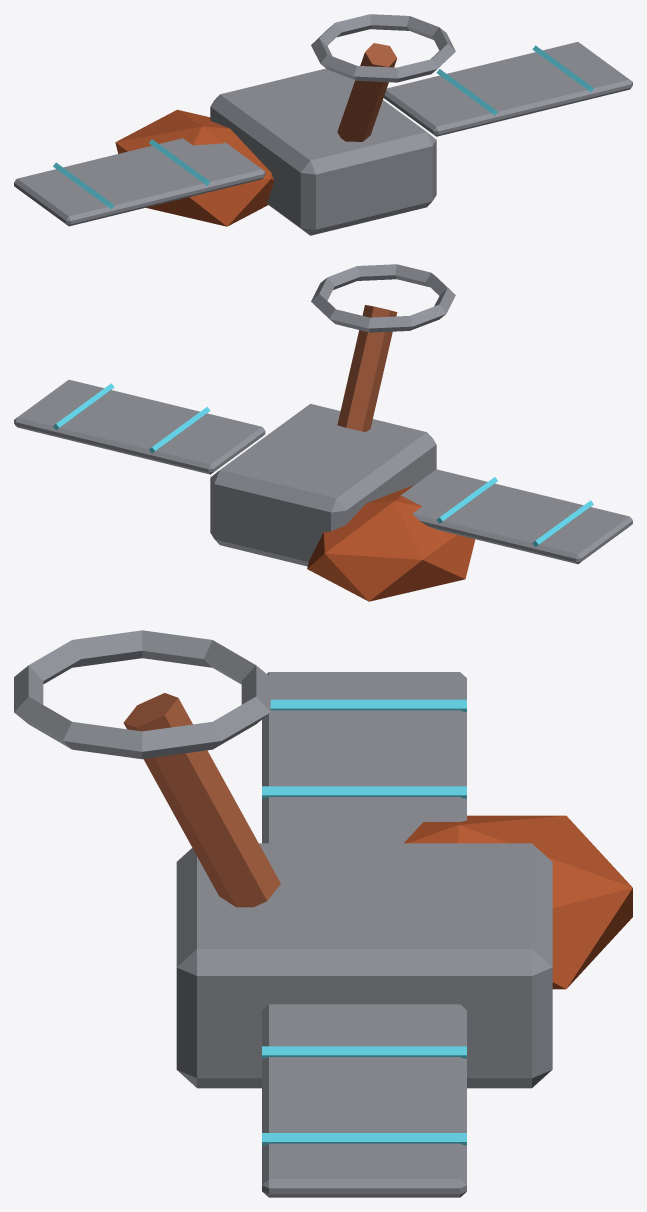
The model's file is res_whales.glb.
The picture shows the model from 3 angles, top to bottom: view 1: azimuth 30°, elevation 25°; view 2: azimuth 150°, elevation 25°; view 3: azimuth 270°, elevation 25°; orthographic projection. The views are drawn at different scales.
Parts seen in each view (by area): view 1: res_whales; view 2: res_whales; view 3: res_whales.
Part boxes in pixels (bbox=[...]): res_whales: bbox=[14, 14, 632, 235]; res_whales: bbox=[14, 264, 632, 601]; res_whales: bbox=[14, 630, 632, 1197].
Size of the model in its own units: 0.71 by 0.239 by 0.3622.
